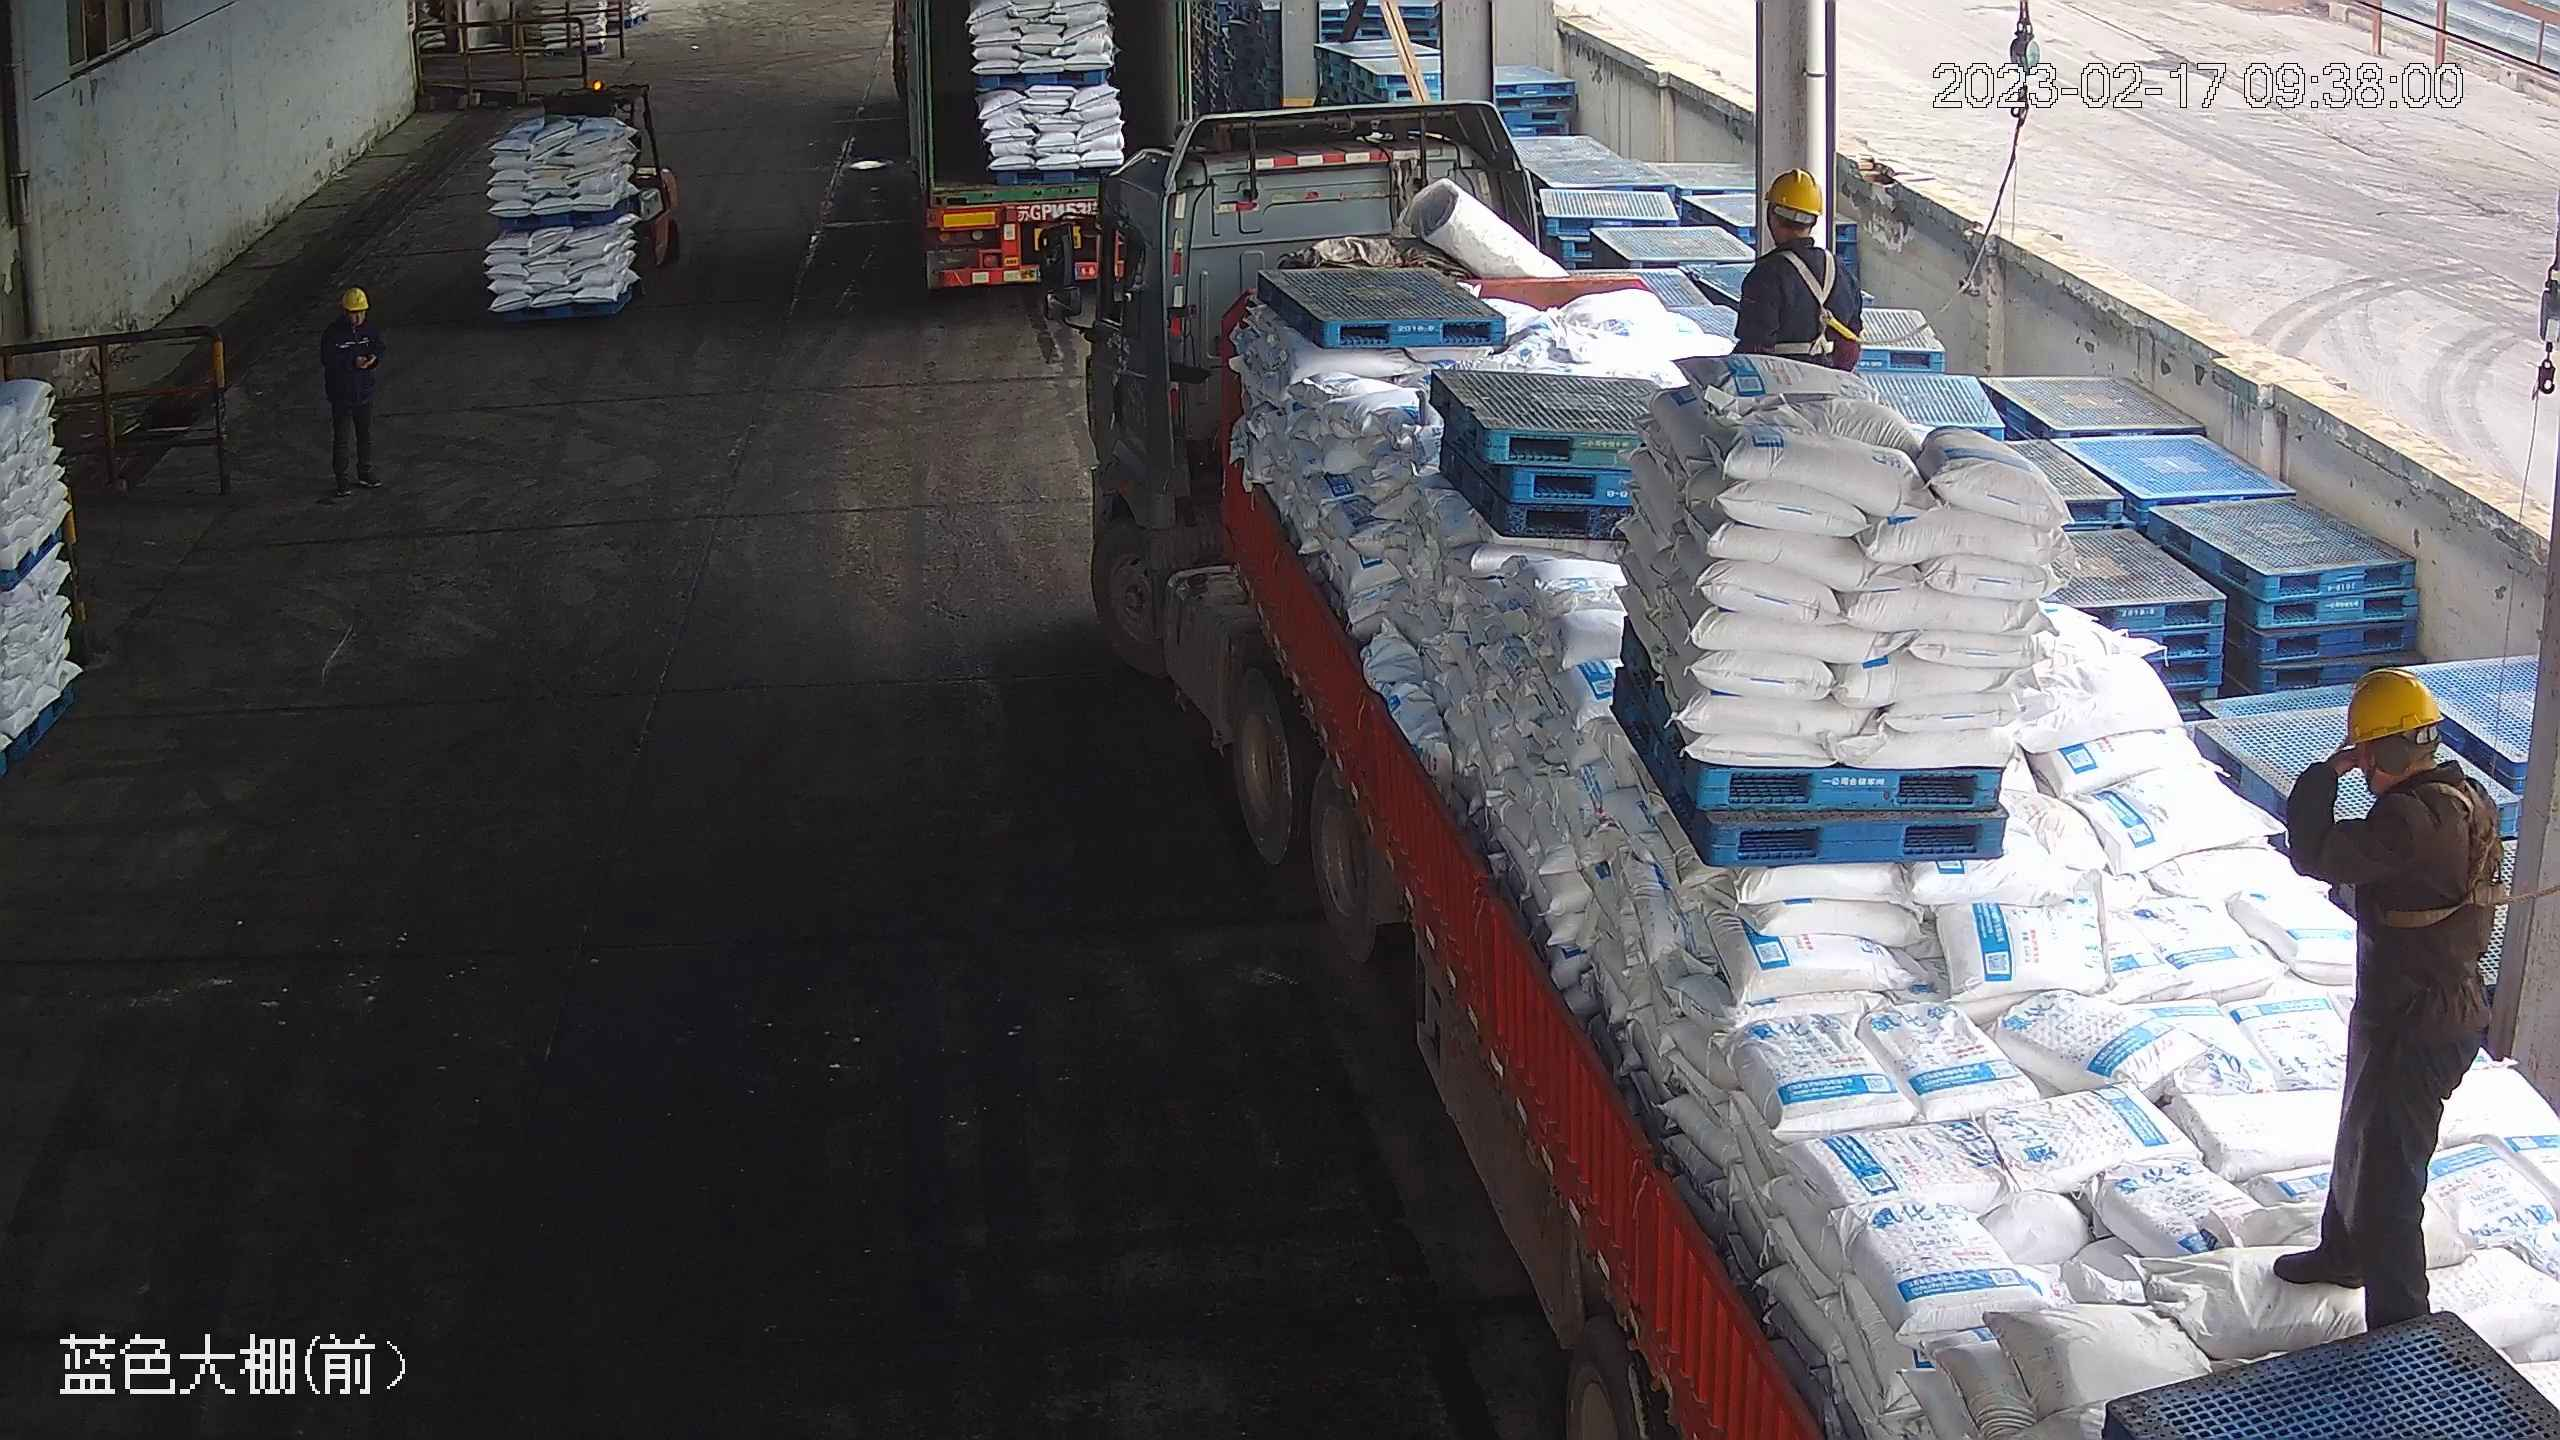belt: (2388, 768, 2511, 926), (1763, 238, 1849, 363)
head: (2292, 661, 2495, 879), (1737, 163, 1858, 306), (319, 284, 381, 351)
helmet: (2339, 661, 2444, 751), (1764, 166, 1831, 218), (340, 284, 371, 311)
people: (2273, 656, 2504, 1331), (319, 283, 386, 493)
truck: (1040, 99, 2552, 1440), (888, 2, 1188, 293)
